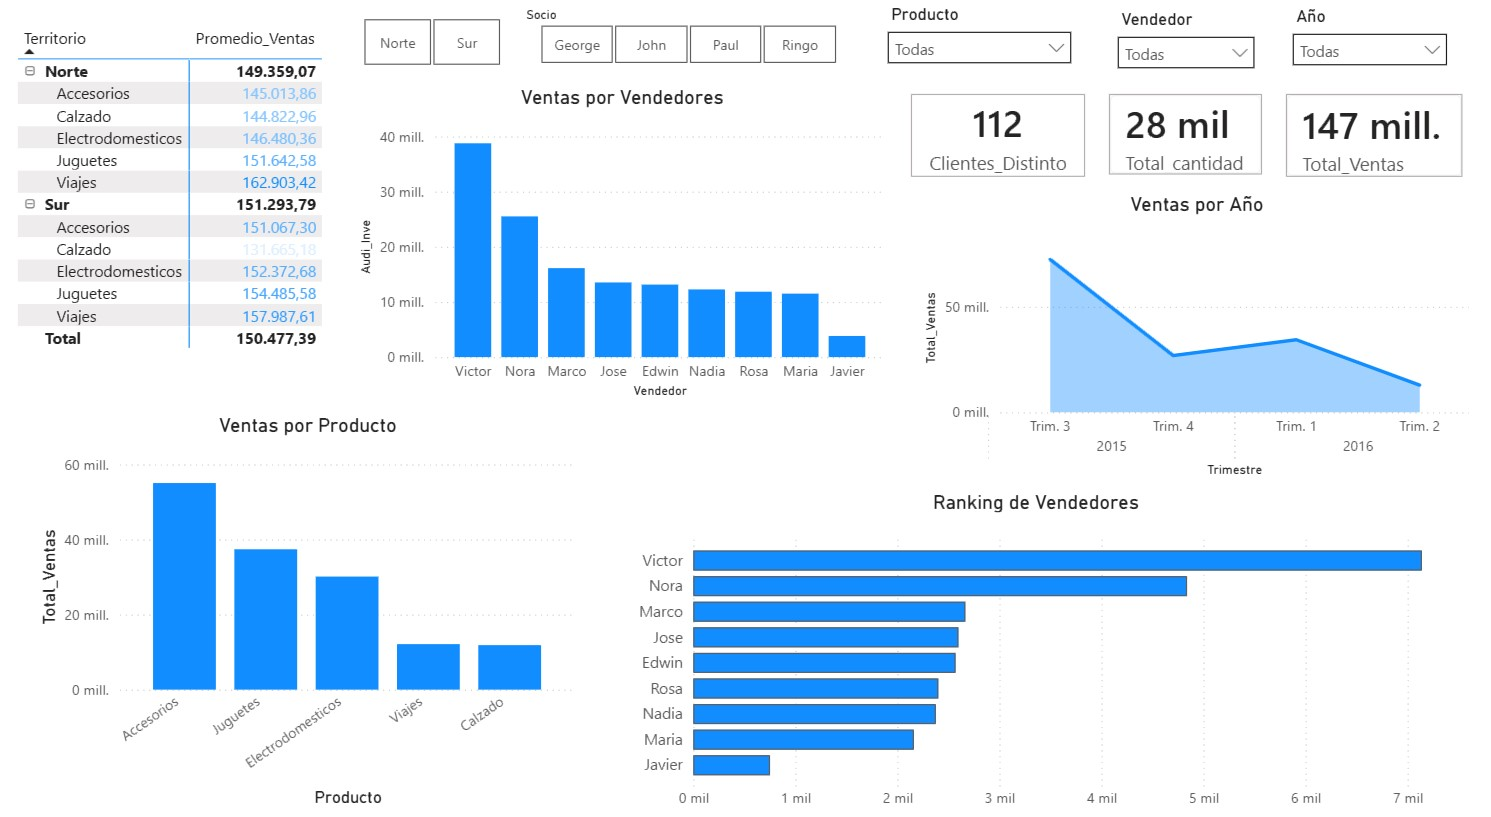

Layout of this report page (visuals, bound fields, positions):
{"tool":"powerbi","page":{"name":"Página 1","canvas":[1280,720],"ordinal":0},"visuals":[{"type":"pivotTable","fields":{"Rows":["Base_limpia.Territorio","Base_limpia.Producto"],"Values":["Base_limpia.Promedio_Ventas"]},"box":[10.4,25,275.1,288.1],"z":0},{"type":"clusteredColumnChart","title":"Ventas por Vendedores","fields":{"Category":["Base_limpia.Vendedor"],"Y":["Base_limpia.Audi_Inve"]},"box":[302.7,79.4,458.9,271.7],"z":2000},{"type":"lineStackedColumnComboChart","title":"Ventas por Producto","fields":{"Category":["Base_limpia.Producto"],"Y":["Base_limpia.Total_Ventas"]},"box":[29.3,359.7,468.4,341.6],"z":3000},{"type":"clusteredBarChart","title":"Ranking de Vendedores","fields":{"Category":["Base_limpia.Vendedor"],"Y":["Sum(Base_limpia.Cantidad)"]},"box":[538.2,426.1,696.1,282],"z":4000},{"type":"cardVisual","fields":{"Data":["Base_limpia.Total_Ventas"]},"box":[1082.5,69.9,185.4,105.2],"z":5000},{"type":"cardVisual","fields":{"Data":["Base_limpia.Total_cantidad"]},"box":[931.5,69.9,165.6,103.5],"z":6000},{"type":"cardVisual","title":"f","fields":{"Data":["Base_limpia.Clientes_Distinto"]},"box":[761.6,69.9,183.7,105.2],"z":7000},{"type":"slicer","fields":{"Values":["Base_limpia.Territorio"]},"box":[285.5,16.4,166.5,53.5],"z":8000},{"type":"slicer","fields":{"Values":["Base_limpia.Socio"]},"box":[437.3,7.8,301.9,59.5],"z":9000},{"type":"slicer","fields":{"Values":["Base_limpia.Producto"]},"box":[748.7,6,176.8,63.8],"z":10000},{"type":"slicer","fields":{"Values":["Base_limpia.Vendedor"]},"box":[945.3,10.4,137.1,59.5],"z":11000},{"type":"slicer","fields":{"Values":["Base_limpia.AÑO"]},"box":[1095.4,7.8,151.8,73.3],"z":12000},{"type":"areaChart","title":"Ventas por Año ","fields":{"Y":["Base_limpia.Total_Ventas"],"Category":["Calendario.Fecha.Variación.Jerarquía de fechas.Año","Calendario.Fecha.Variación.Jerarquía de fechas.Trimestre"]},"box":[785.8,170.8,475.3,248.4],"z":13000}]}

Visuals, with their boxes in screenshot pixels (x1, y1, x2, y2), scaled from the page's 1280x720 canvas onto the 1491x817 screenshot:
pivotTable - Base_limpia.Territorio x Base_limpia.Producto: (12, 28, 333, 355)
"Ventas por Vendedores" clusteredColumnChart: (353, 90, 887, 398)
"Ventas por Producto" lineStackedColumnComboChart: (34, 408, 580, 796)
"Ranking de Vendedores" clusteredBarChart: (627, 484, 1438, 803)
cardVisual - Base_limpia.Total_Ventas: (1261, 79, 1477, 199)
cardVisual - Base_limpia.Total_cantidad: (1085, 79, 1278, 197)
"f" cardVisual: (887, 79, 1101, 199)
slicer - Base_limpia.Territorio: (333, 19, 527, 79)
slicer - Base_limpia.Socio: (509, 9, 861, 76)
slicer - Base_limpia.Producto: (872, 7, 1078, 79)
slicer - Base_limpia.Vendedor: (1101, 12, 1261, 79)
slicer - Base_limpia.AÑO: (1276, 9, 1453, 92)
"Ventas por Año " areaChart: (915, 194, 1469, 476)
